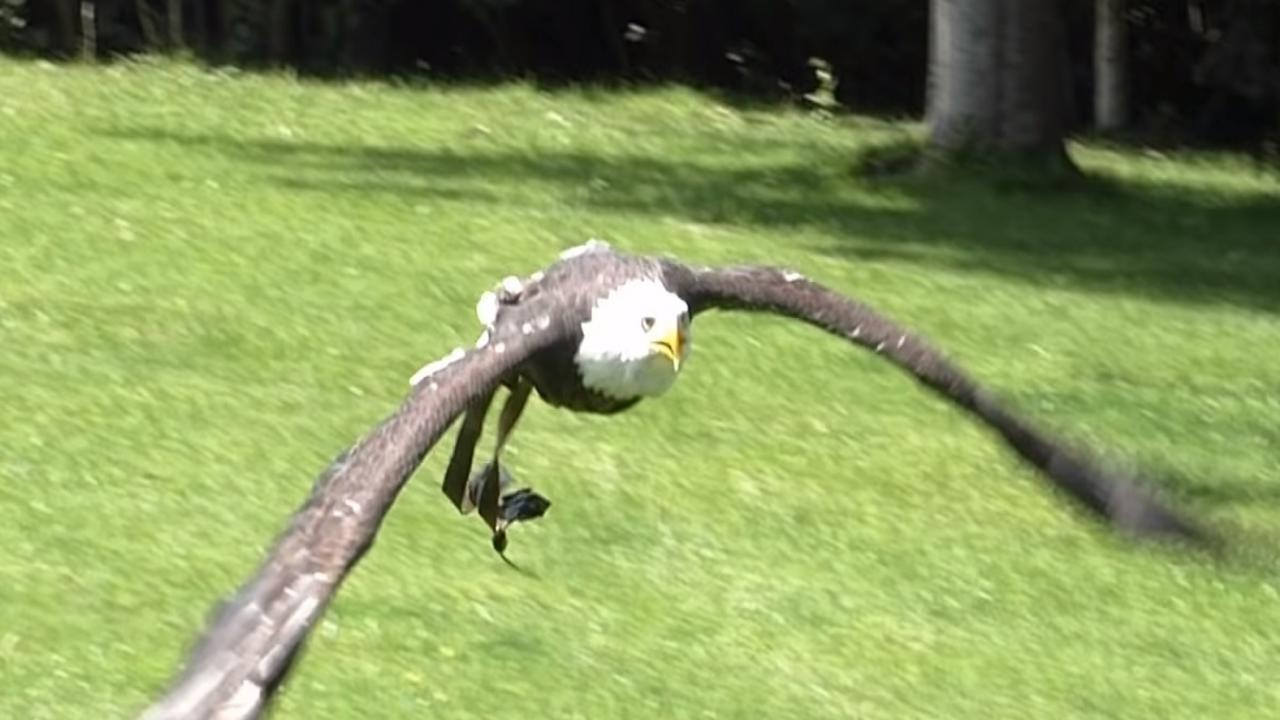Bird: (130, 228, 1280, 720)
